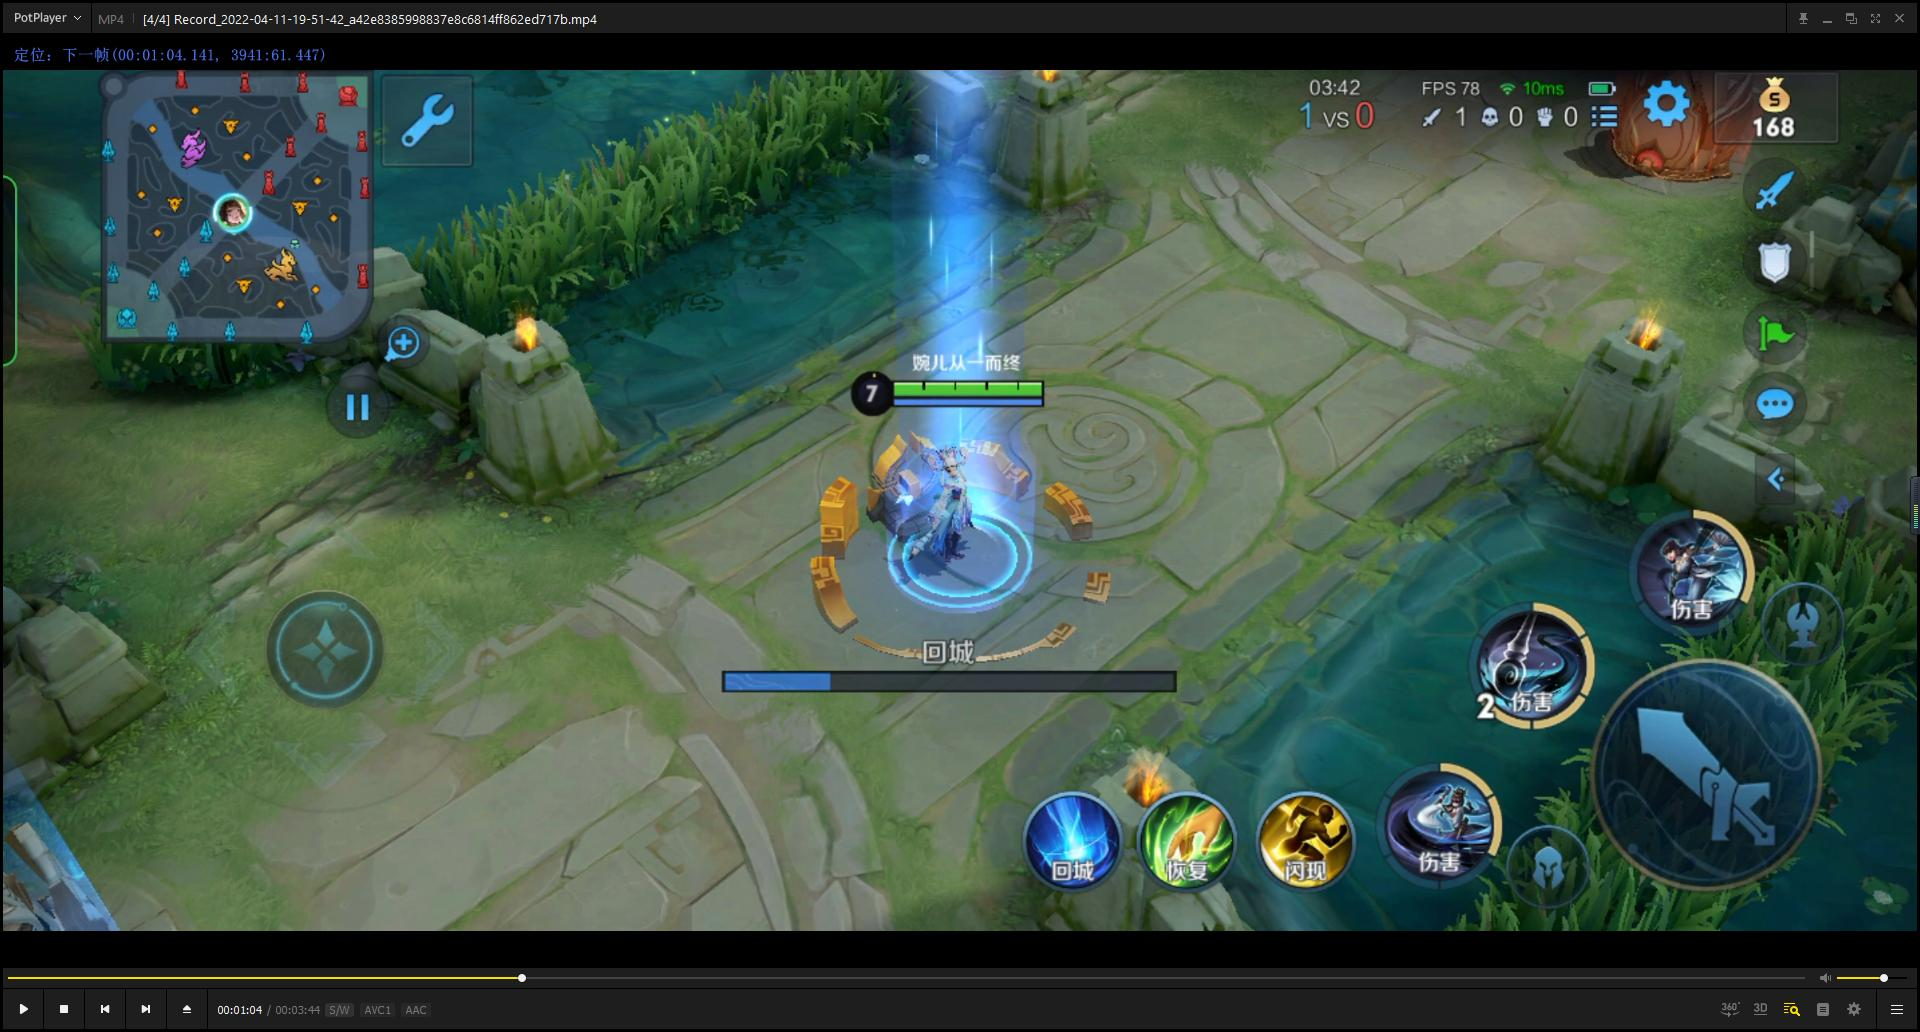Hero: (873, 437, 1058, 596)
Tower: (1, 735, 155, 935), (1572, 72, 1787, 200)
